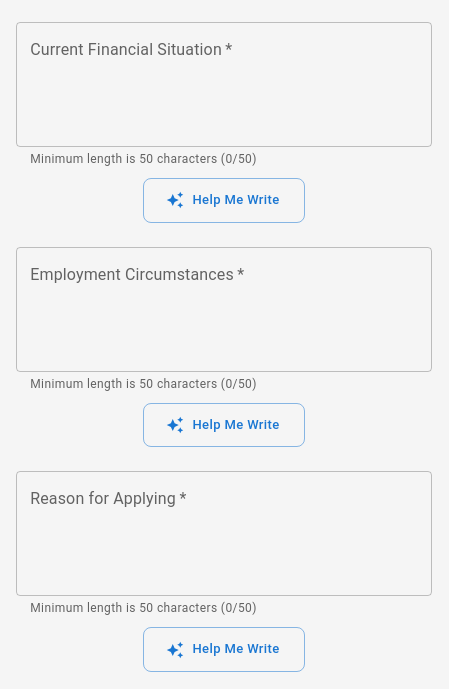
Step3SituationDescriptions › Form Field Interactions › should update character count as user types
Step 1. Type "Hello" into the text box labelled "Current Financial Situation" → (224, 84), box [30,38,418,130]
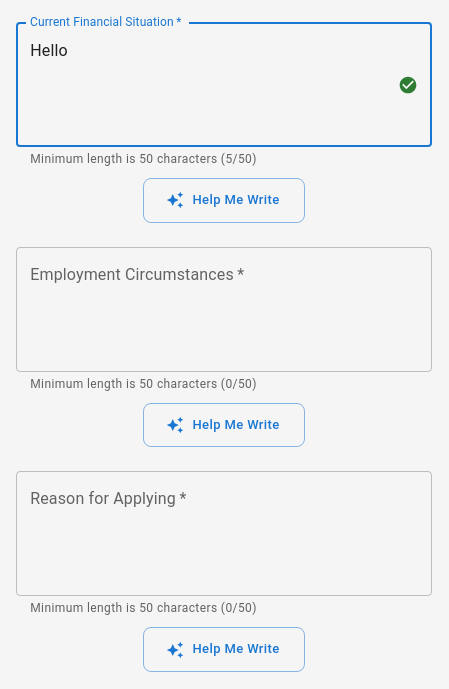
Expected: the text "Minimum length is 50 characters (5/50)" is shown, [30,152,257,166]
